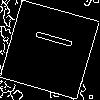I: (25, 24, 74, 51)
